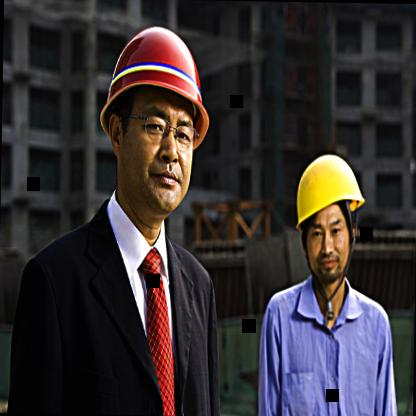helmet: (85, 12, 219, 233), (282, 127, 380, 302)
